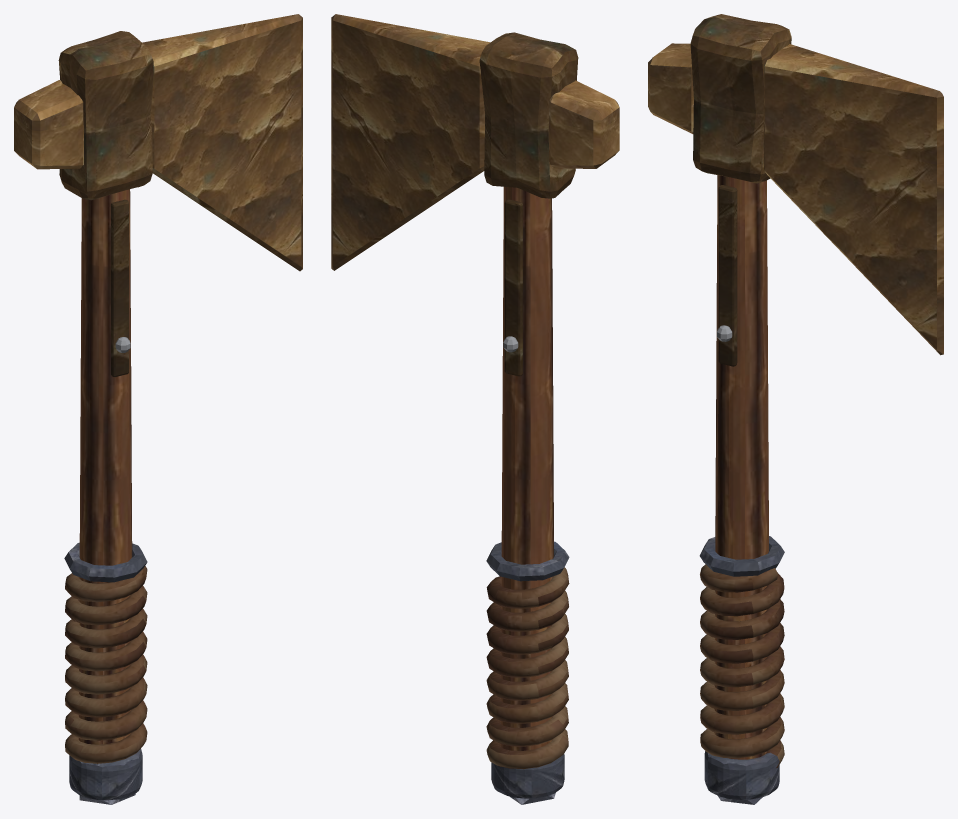
File: axe_bronze.glb
The picture shows the model from 3 angles, left to right: view 1: azimuth 30°, elevation 25°; view 2: azimuth 150°, elevation 25°; view 3: azimuth 330°, elevation 25°; orthographic projection. The views are drawn at different scales.
Visible parts, largest first — view 1: model; view 2: model; view 3: model.
Boxes of the visible parts, bbox=[...] form: model: bbox=[14, 14, 302, 804]; model: bbox=[331, 14, 619, 804]; model: bbox=[648, 14, 943, 804].
Size of the model in its own units: 0.27 by 0.6987 by 0.0701.
Materials: 7 (6 with a texture image).
